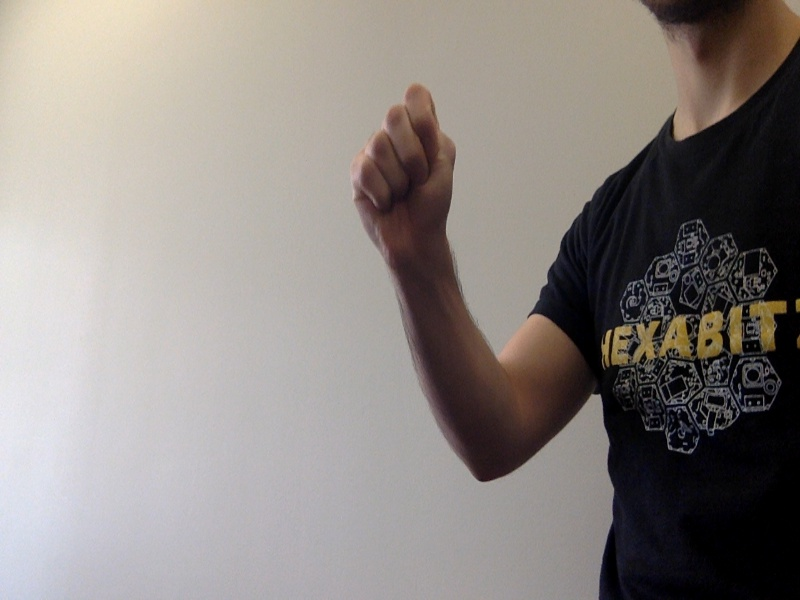0-hand: (355, 86, 459, 265)
